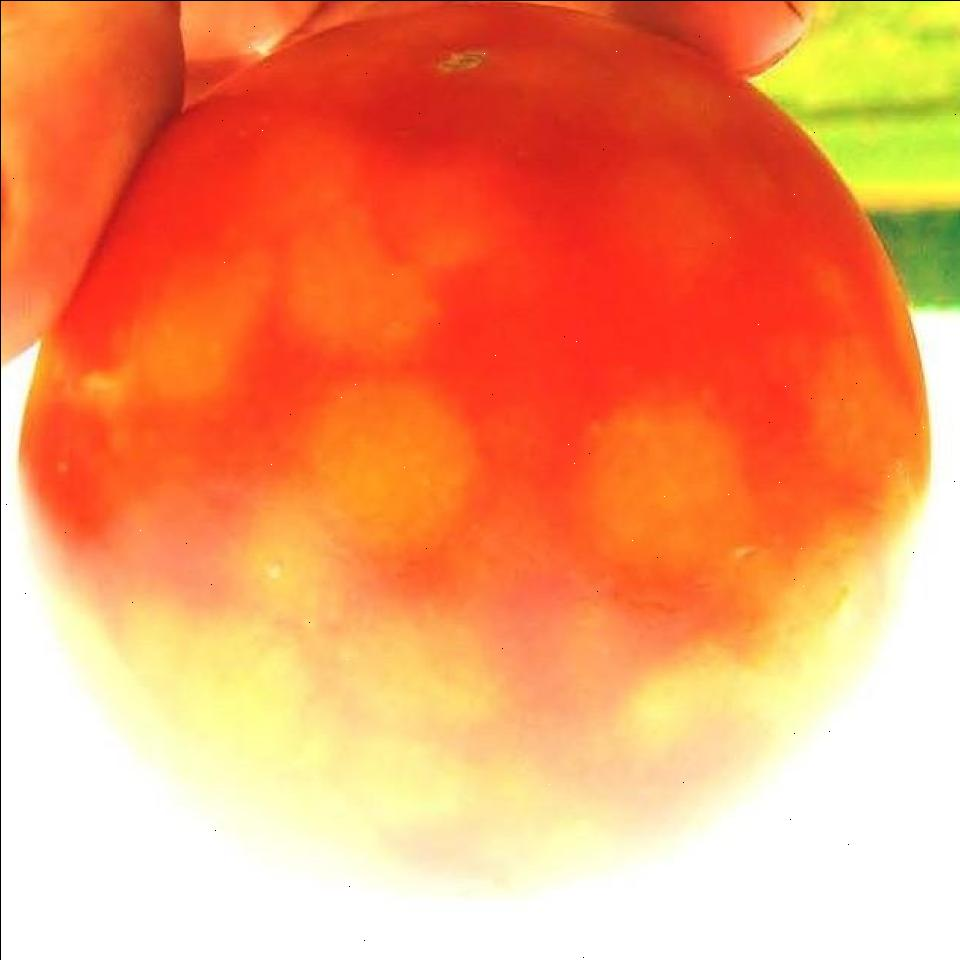Spotted wilt Virus: (26, 0, 931, 899)
